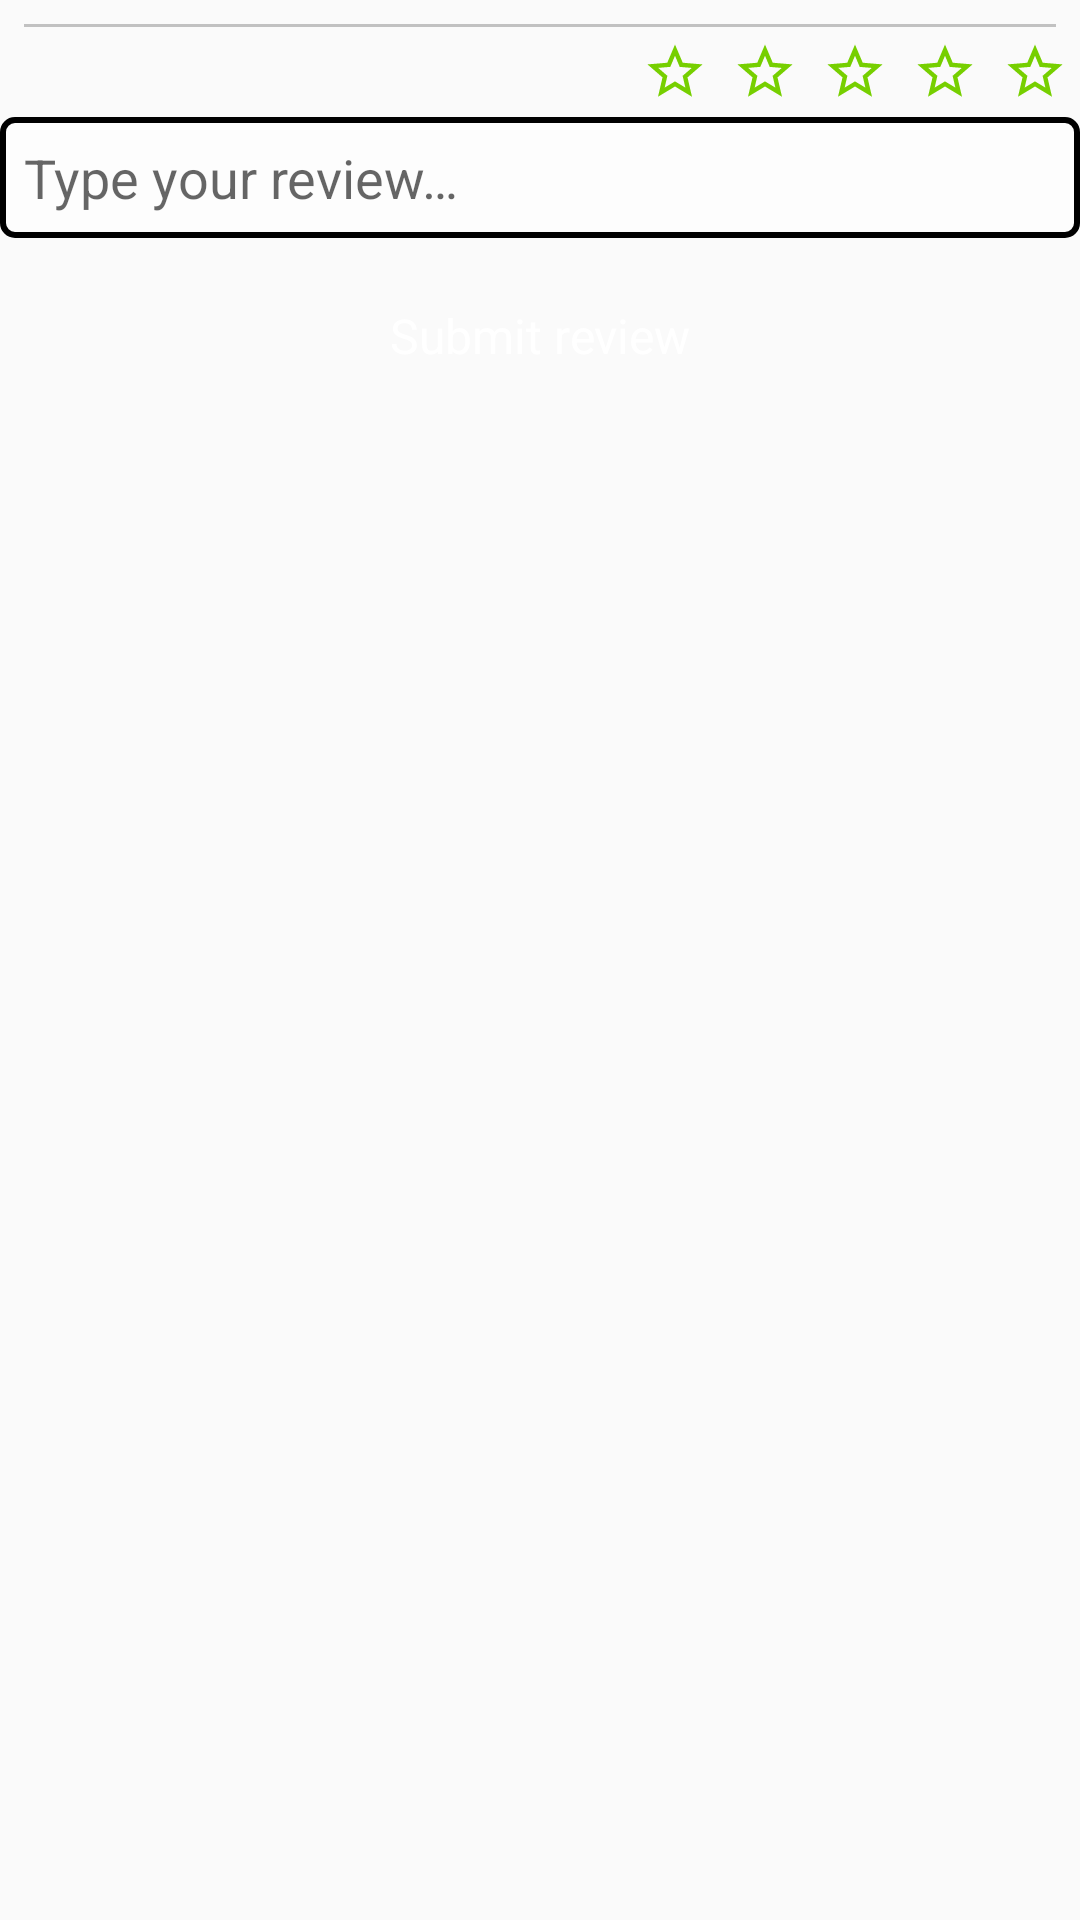

Where to tap for icons on this 1080px x 1920px app screen, as [x,y]:
star border: [675,71], [765,71], [855,71], [945,71], [1035,71]
